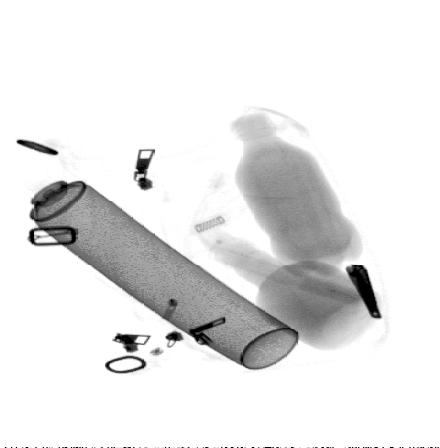Sprayer: (3, 157, 302, 372)
